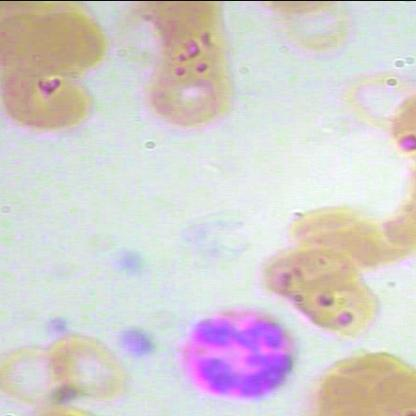Platelets: (118, 324, 154, 355)
RBC: (42, 328, 132, 407), (288, 263, 378, 342), (0, 61, 94, 135), (132, 62, 234, 130), (22, 8, 106, 70), (283, 200, 366, 262), (336, 66, 415, 128), (374, 366, 416, 416)
WBC: (173, 304, 300, 404)
